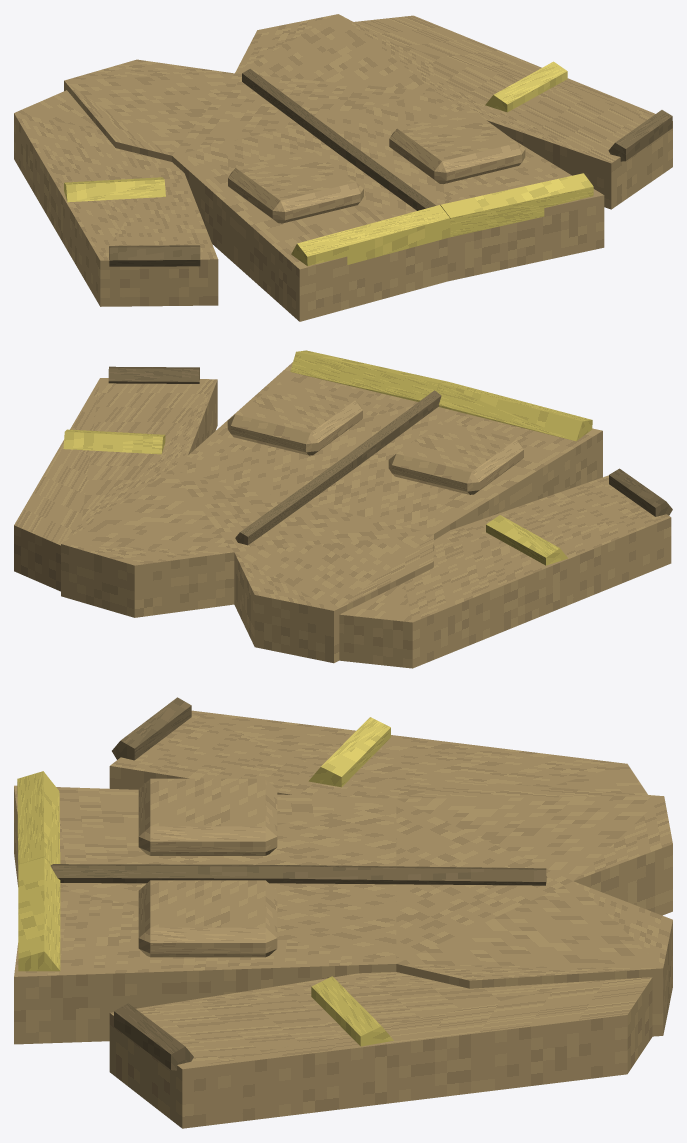
File: bunker_coat.glb
3 views of the same model, one above another, from view 1: azimuth 30°, elevation 25°; view 2: azimuth 150°, elevation 25°; view 3: azimuth 270°, elevation 25° (orthographic). The views are drawn at different scales.
Parts seen in each view (by area): view 1: block_garment body, block_sleeve (×2), block_raised front pocket (×2), block_hem trim 0, block_hem trim 1, block_reflective fire service band 0 (×2), block_cuff 0 (×2), block_front closure 0, block_front closure 1; view 2: block_garment body, block_sleeve (×2), block_raised front pocket (×2), block_hem trim 0, block_reflective fire service band 0 (×2), block_hem trim 1, block_cuff 0 (×2), block_front closure 0, block_front closure 1; view 3: block_garment body, block_sleeve (×2), block_raised front pocket (×2), block_reflective fire service band 0 (×2), block_front closure 0, block_hem trim 1, block_cuff 0 (×2), block_front closure 1, block_hem trim 0.
Boxes of the visible parts, x1,y1,x2,y2 form: block_garment body: [64, 14, 604, 321]; block_sleeve (×2): [14, 15, 672, 306]; block_raised front pocket (×2): [228, 110, 525, 223]; block_hem trim 0: [291, 205, 450, 266]; block_hem trim 1: [440, 173, 593, 237]; block_reflective fire service band 0 (×2): [64, 61, 567, 202]; block_cuff 0 (×2): [109, 110, 672, 266]; block_front closure 0: [242, 69, 349, 155]; block_front closure 1: [341, 143, 436, 210]; block_garment body: [61, 362, 602, 663]; block_sleeve (×2): [14, 378, 671, 668]; block_raised front pocket (×2): [227, 382, 523, 494]; block_hem trim 0: [437, 382, 592, 441]; block_reflective fire service band 0 (×2): [63, 429, 567, 565]; block_hem trim 1: [290, 350, 448, 401]; block_cuff 0 (×2): [108, 366, 672, 516]; block_front closure 0: [235, 457, 352, 545]; block_front closure 1: [345, 390, 441, 469]; block_garment body: [14, 781, 672, 1044]; block_sleeve (×2): [109, 710, 652, 1128]; block_raised front pocket (×2): [138, 778, 277, 957]; block_reflective fire service band 0 (×2): [308, 717, 393, 1046]; block_front closure 0: [283, 865, 546, 885]; block_hem trim 1: [18, 857, 60, 971]; block_cuff 0 (×2): [112, 697, 193, 1070]; block_front closure 1: [50, 864, 282, 883]; block_hem trim 0: [17, 771, 60, 864].
Bounding box in the file's own units: 0.802 × 0.0993 × 0.6206.
Materials: 1 (1 with a texture image).
